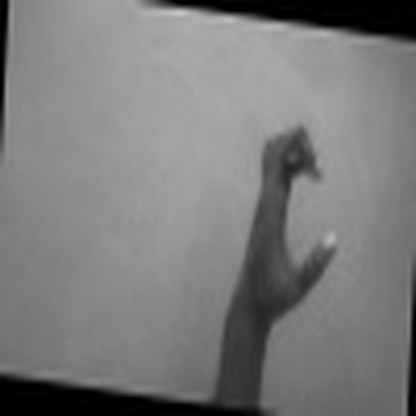c: (243, 121, 342, 321)
